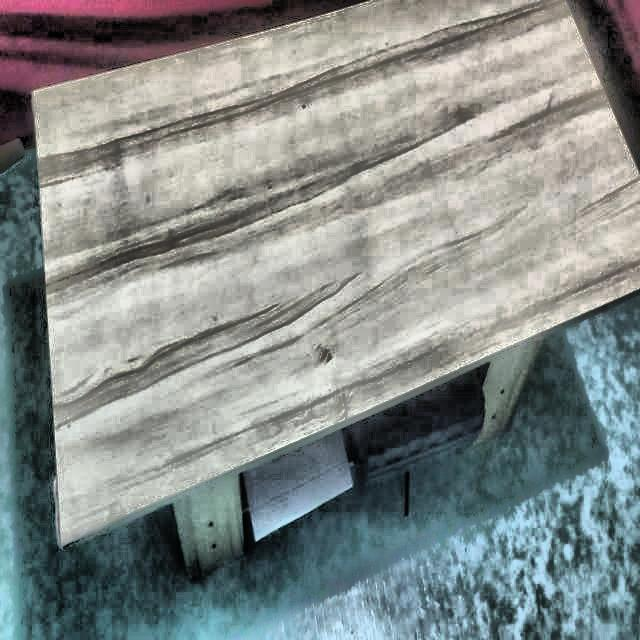mesa: (28, 0, 640, 572)
